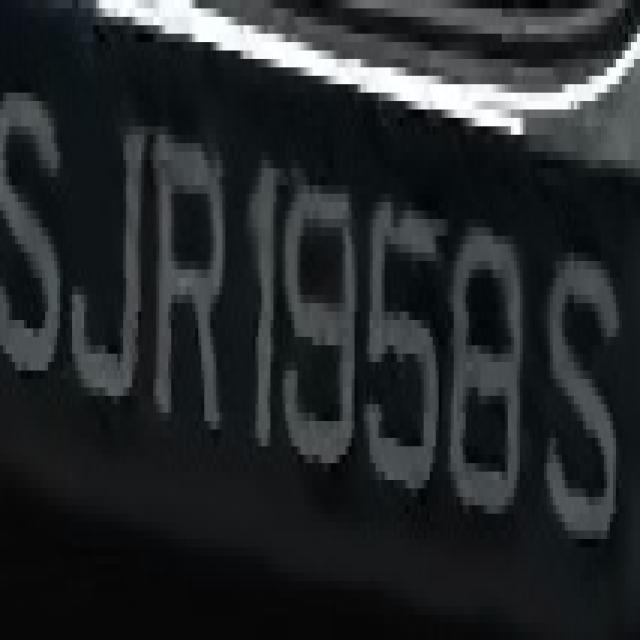1: (250, 110, 282, 472)
5: (366, 185, 442, 514)
8: (442, 194, 529, 556)
9: (292, 143, 361, 497)
J: (57, 92, 144, 412)
R: (150, 118, 228, 446)
S: (541, 227, 622, 556), (3, 51, 60, 404)
